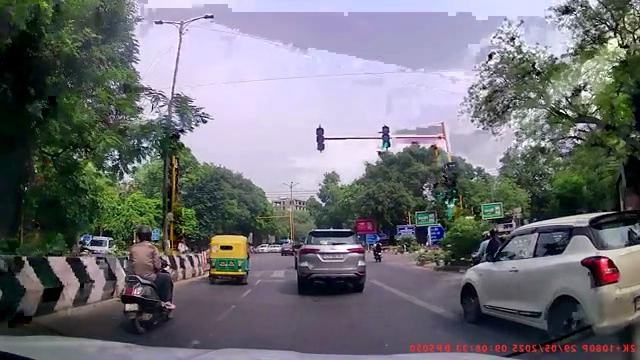motorcycle_with_helmet: (117, 222, 177, 337)
